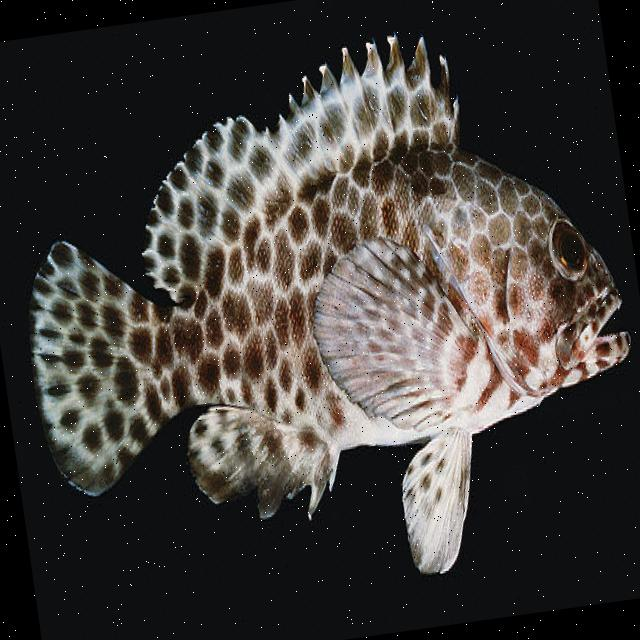ikan: (0, 3, 640, 628)
